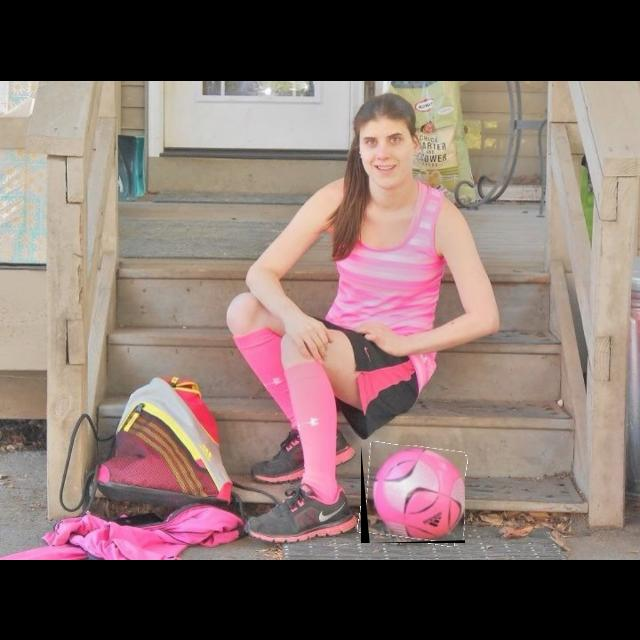Football: (361, 445, 465, 543)
